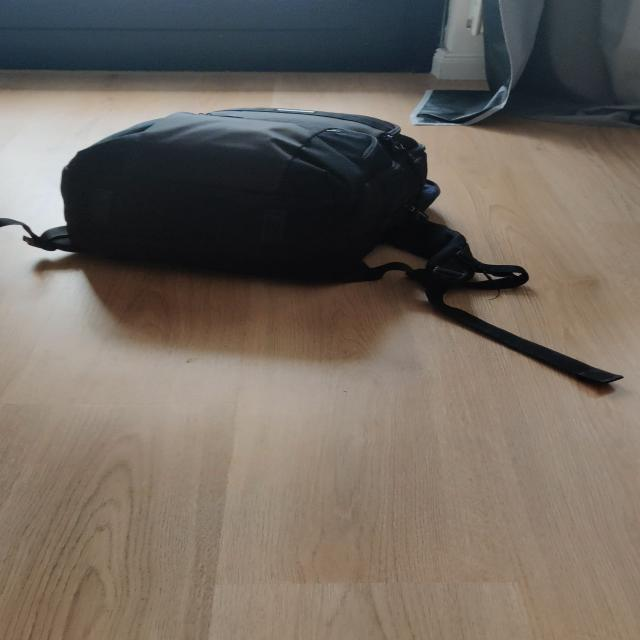backpack: (36, 100, 461, 288)
